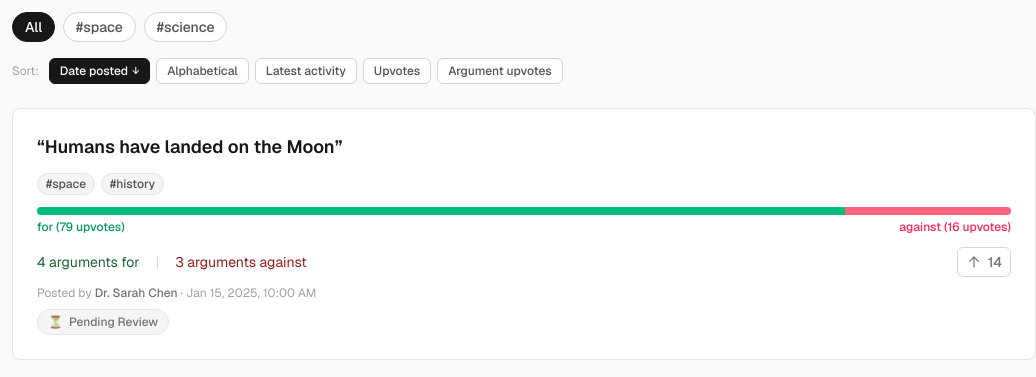
StatementList › shows 'No statements found for #tag' when filter yields nothing
Click the button "#science".
click(186, 27)  # box x1=144 y1=12 x2=228 y2=42
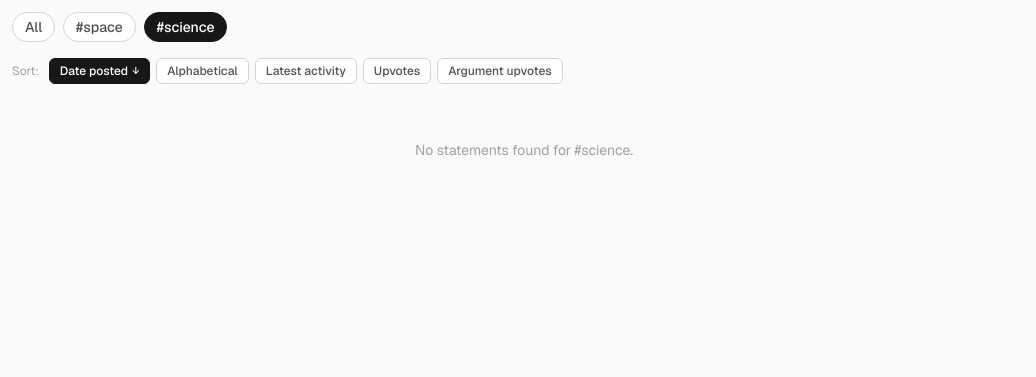
Now the text "No statements found for #science." is shown, box x1=415 y1=141 x2=633 y2=159
